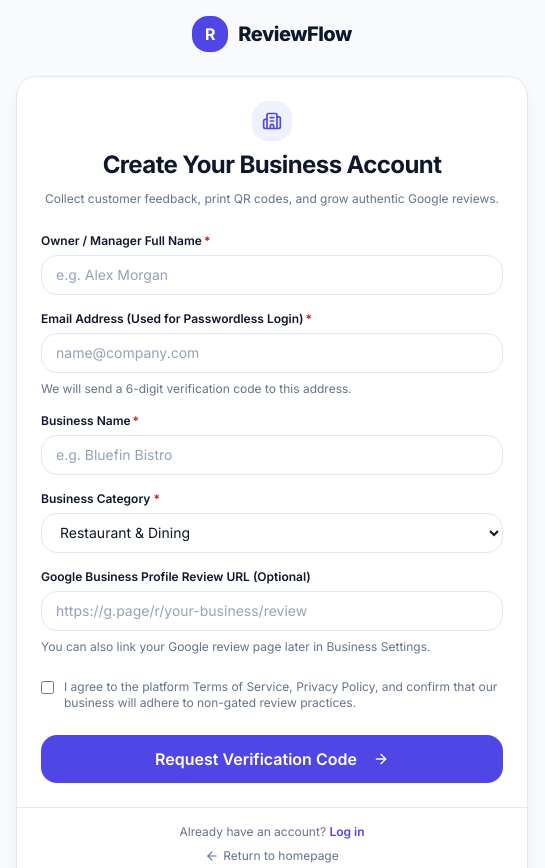
SignupPage Flow › should validate email format and reject invalid emails
This screenshot has width=545, height=868.
Type "Alex Morgan" into the field labelled "Owner / Manager Full Name*" at point(272, 274), box [41,254,503,294]
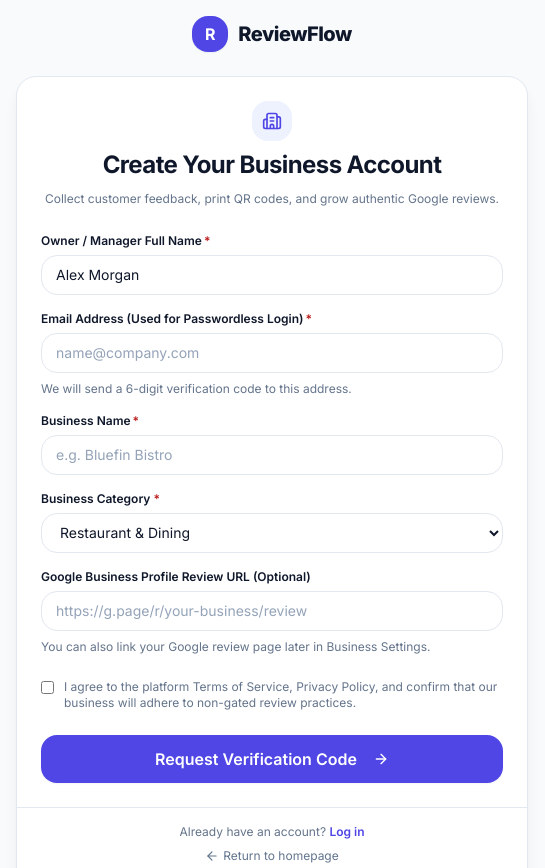
Type "not-an-email" into the field labelled "Email Address (Used for Passwordless Login)*" at point(272, 352), box [41,332,503,372]
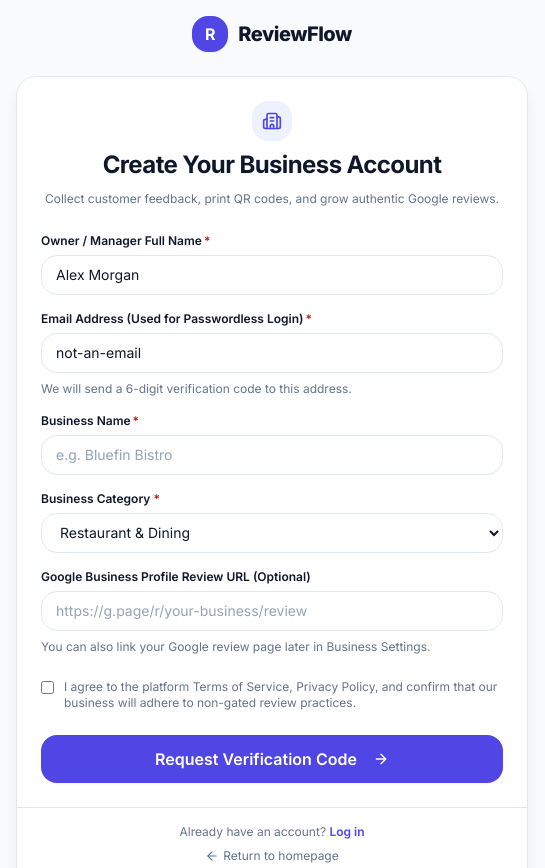
Type "Morgan Dental" into the field labelled "Business Name*" at point(272, 454), box [41,434,503,474]
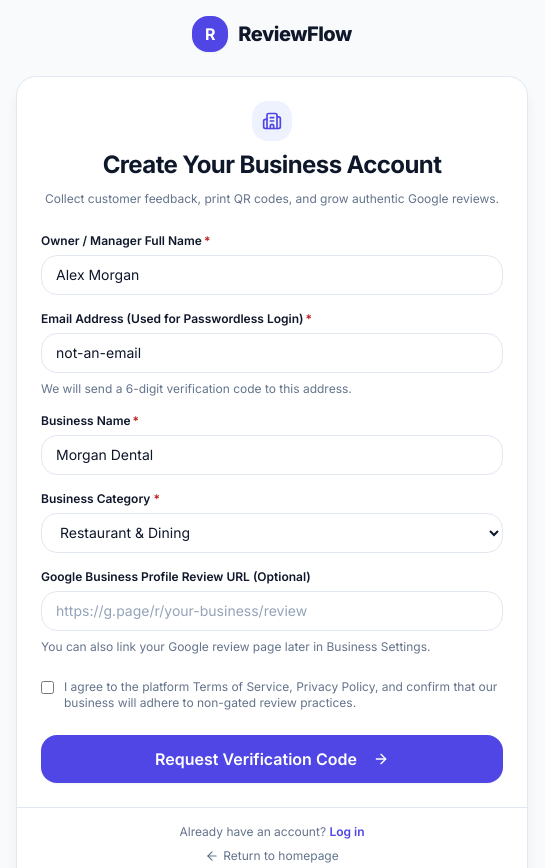
Click the checkbox at point(48, 687), box [41,680,54,694]
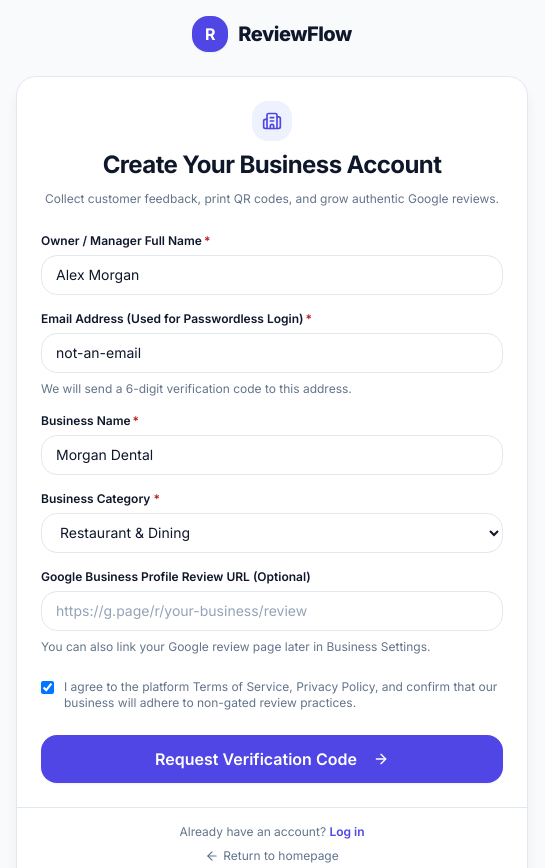
Click the button "Request Verification Code" at point(272, 758), box [41,734,503,782]
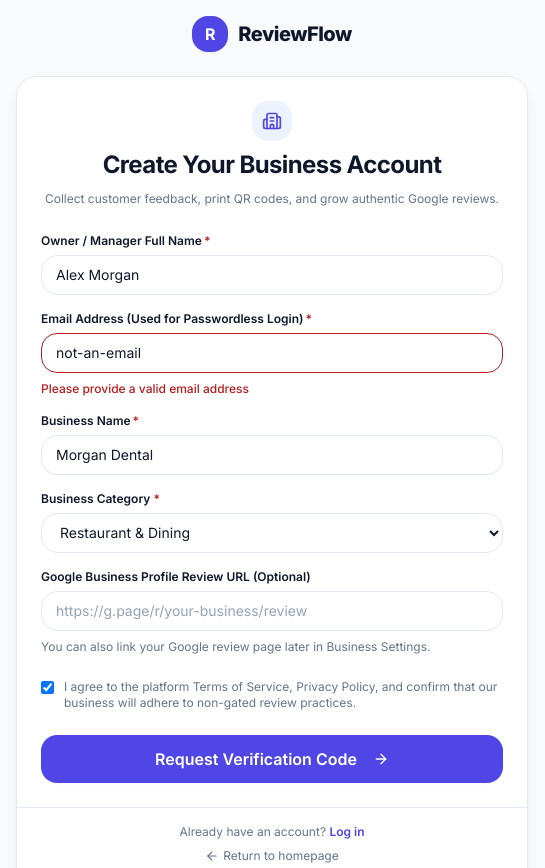
Expected: the text "Please provide a valid email address" is shown, [41,380,249,396]
